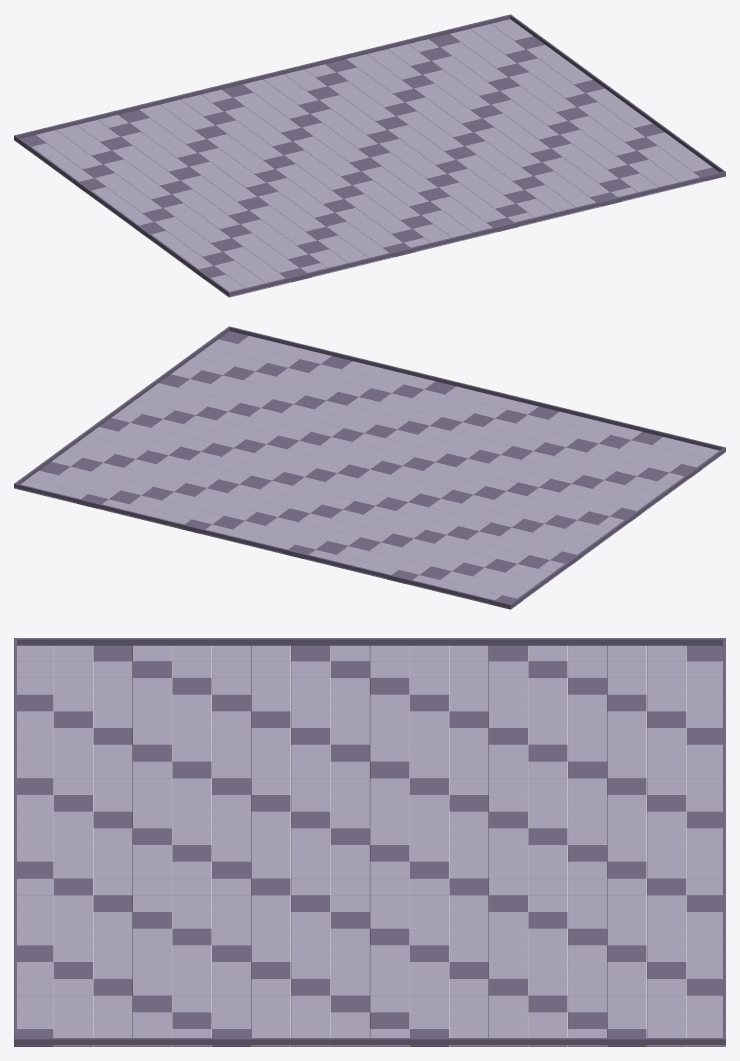
Rendered from floor.glb.
The picture shows the model from 3 angles, top to bottom: view 1: azimuth 30°, elevation 25°; view 2: azimuth 150°, elevation 25°; view 3: azimuth 270°, elevation 25°; orthographic projection. The views are drawn at different scales.
Parts seen in each view (by area): view 1: Plinth.003, Plinth.002, Plinth, Plinth.001; view 2: Plinth.002, Plinth.003, Plinth, Plinth.001; view 3: Plinth.001, Plinth, Plinth.002, Plinth.003, Stone_slab.058, Stone_slab.067, Stone_slab.128, Stone_slab.130, Stone_slab.132, Stone_slab.137, Stone_slab.139, Stone_slab.141 (+376 smaller).
Part boxes in pixels (x1,y1,x2,y2): Plinth.003: (229, 171, 725, 296); Plinth.002: (15, 14, 510, 138); Plinth: (14, 135, 230, 296); Plinth.001: (510, 14, 725, 175); Plinth.002: (14, 483, 510, 608); Plinth.003: (229, 326, 725, 451); Plinth: (509, 447, 725, 608); Plinth.001: (14, 326, 229, 487); Plinth.001: (14, 1038, 725, 1045); Plinth: (14, 638, 725, 645); Plinth.002: (723, 638, 725, 1045); Plinth.003: (14, 638, 16, 1038); Stone_slab.058: (528, 694, 567, 711); Stone_slab.067: (172, 694, 211, 711); Stone_slab.128: (607, 761, 646, 778); Stone_slab.130: (528, 761, 567, 778); Stone_slab.132: (449, 761, 488, 778); Stone_slab.137: (251, 761, 290, 778); Stone_slab.139: (172, 761, 211, 778); Stone_slab.141: (93, 761, 132, 778).
Size of the model in its own units: 24 by 0.225 by 18.
